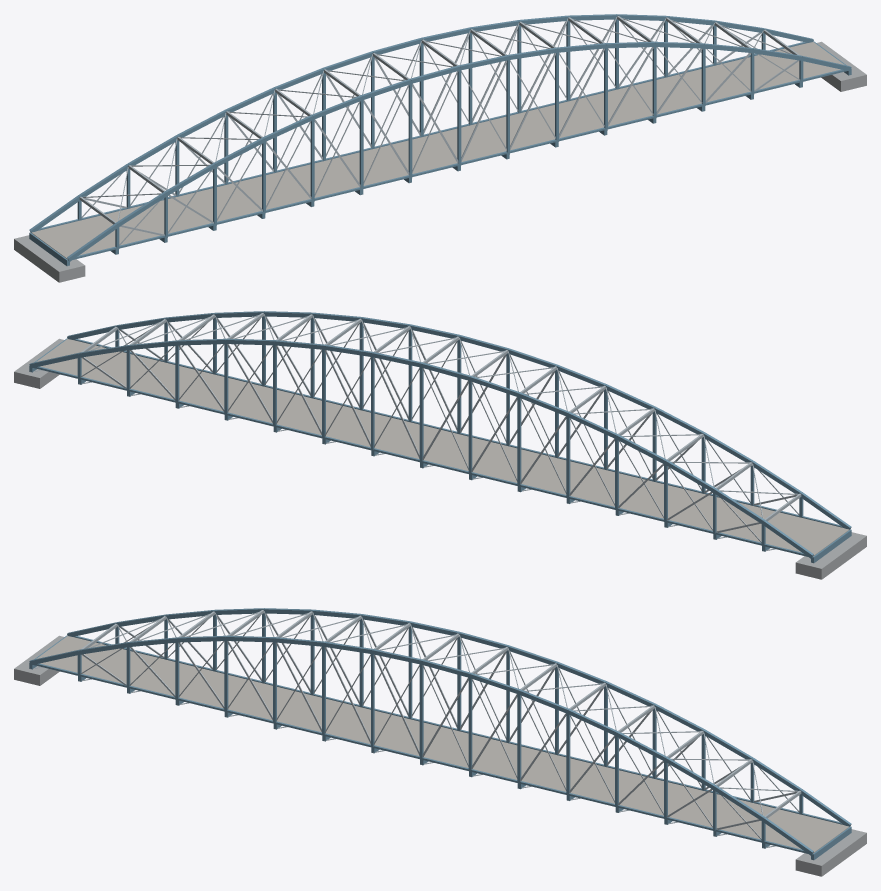
The model's file is bridge.glb.
3 renders of one model, top to bottom at view 1: azimuth 30°, elevation 25°; view 2: azimuth 150°, elevation 25°; view 3: azimuth 330°, elevation 25°, orthographic.
Parts seen in each view (by area): view 1: deck_001, bearing_block_001, bearing_block_002; view 2: deck_001, bearing_block_001, bearing_block_002; view 3: deck_001, bearing_block_002, bearing_block_001.
Boxes of the visible parts, x1=… form: deck_001: x1=31, y1=42, x2=844, y2=259; bearing_block_001: x1=14, y1=235, x2=85, y2=282; bearing_block_002: x1=817, y1=41, x2=866, y2=91; deck_001: x1=36, y1=339, x2=849, y2=556; bearing_block_001: x1=795, y1=532, x2=866, y2=579; bearing_block_002: x1=14, y1=338, x2=63, y2=388; deck_001: x1=36, y1=636, x2=849, y2=853; bearing_block_002: x1=795, y1=829, x2=866, y2=876; bearing_block_001: x1=14, y1=635, x2=63, y2=685.
Size of the model in its own units: 46.41 by 6.34 by 4.5.
